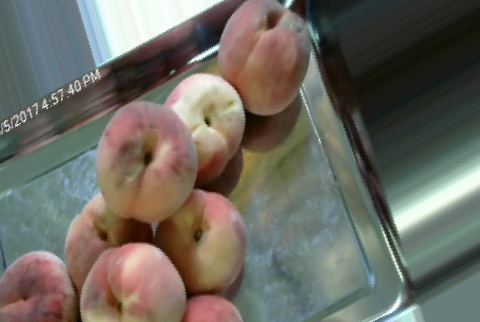Peach: (94, 101, 196, 222), (213, 2, 310, 114), (156, 188, 246, 295), (162, 73, 247, 180), (80, 241, 189, 322), (0, 251, 78, 322)
